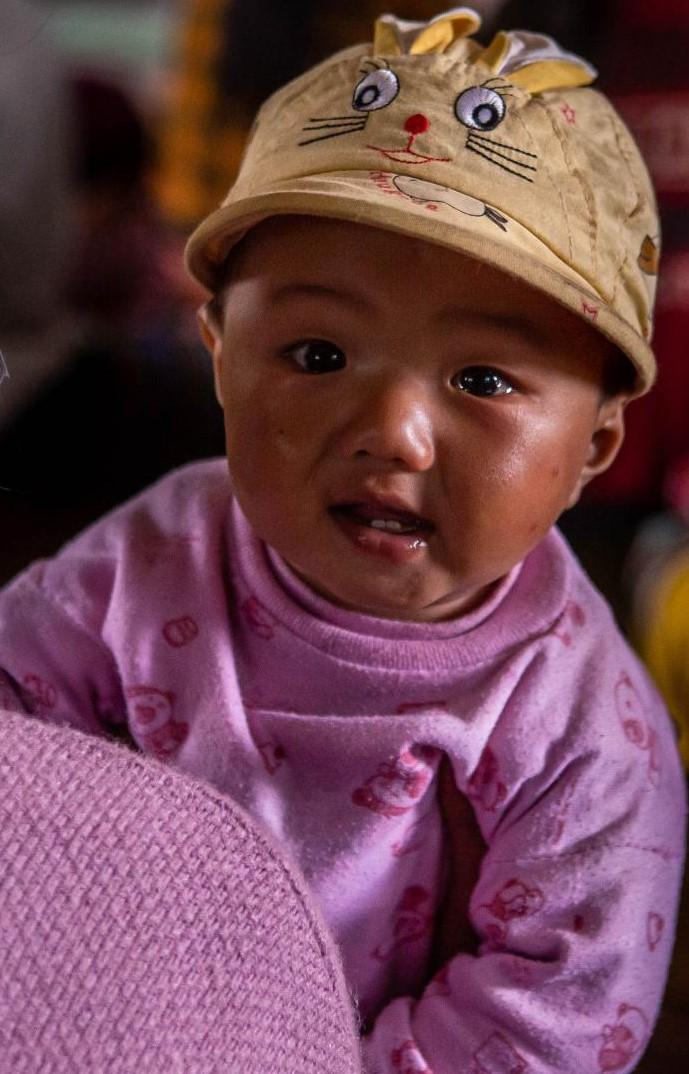Healthy: (188, 151, 634, 630)
